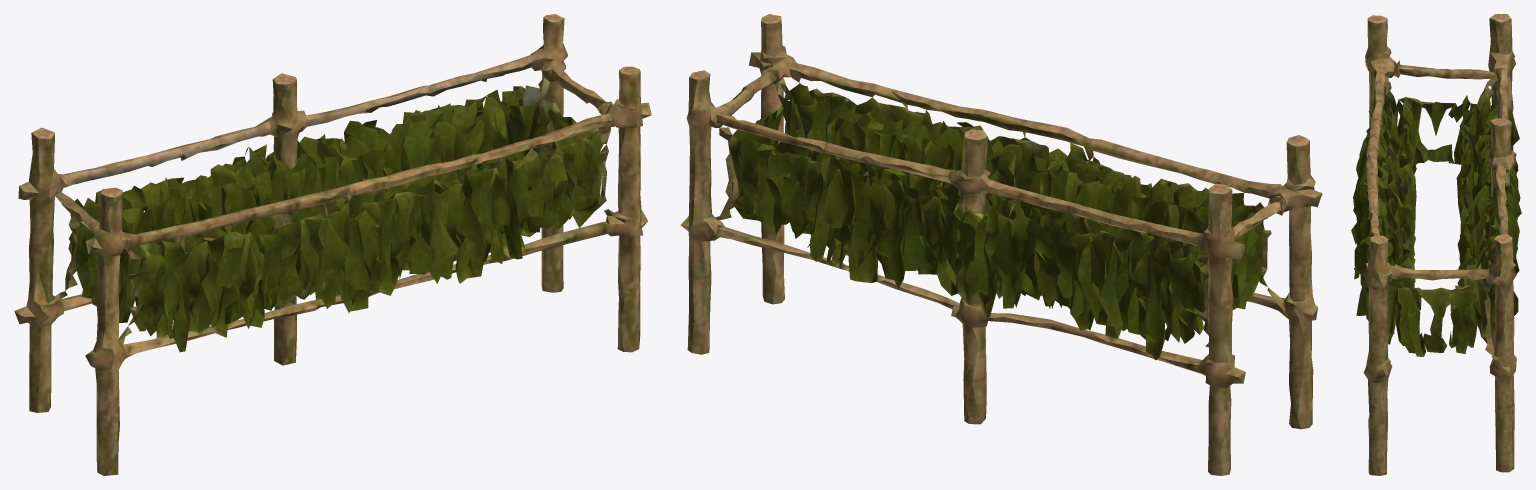
The model's file is nori_rack_lite.glb.
The picture shows the model from 3 angles, left to right: view 1: azimuth 30°, elevation 25°; view 2: azimuth 150°, elevation 25°; view 3: azimuth 270°, elevation 25°; orthographic projection. The views are drawn at different scales.
Parts seen in each view (by area): view 1: geometry_0; view 2: geometry_0; view 3: geometry_0.
Boxes of the visible parts, <box> form: geometry_0: <box>14,14,651,475</box>; geometry_0: <box>680,14,1322,475</box>; geometry_0: <box>1351,14,1521,475</box>.
Bounding box in the file's own units: 1.9 × 0.9365 × 0.5922.
1 material, 1 textured.
